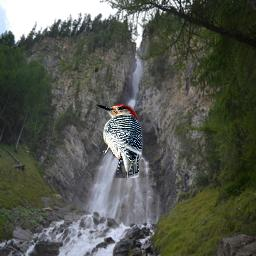Woodpecker: (93, 100, 145, 178)
